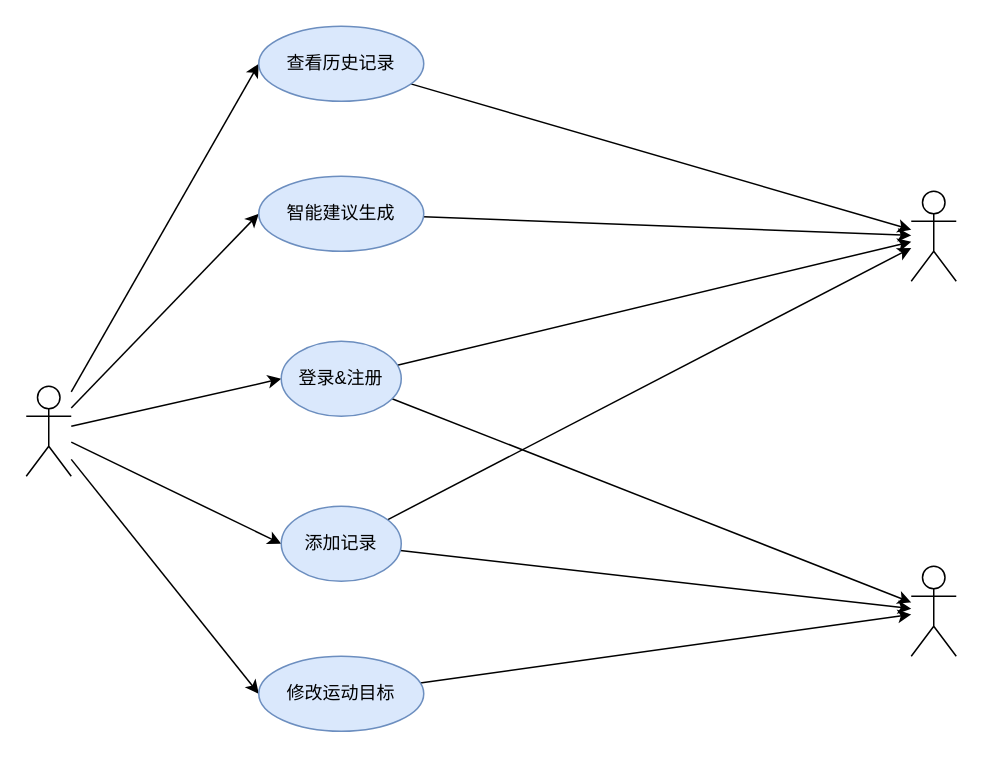
Image size: 996x758. Some labels were removed from this diagram. Here are the shapes that lost their labels. From the top down, the centre of each, then its label:
At [933,235]: "后端".
At [48,430]: "用户".
At [933,610]: "本地存储".
